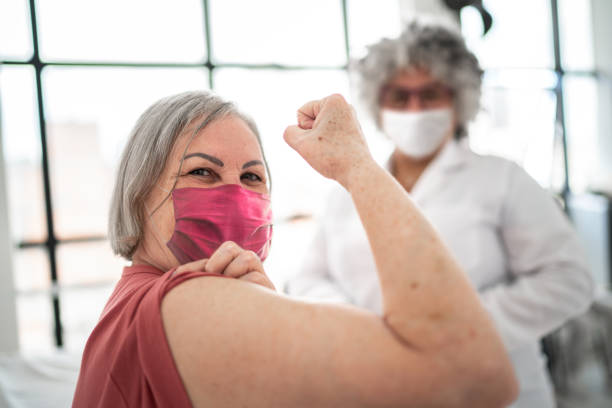with mask: (110, 93, 271, 274), (370, 52, 459, 161)
